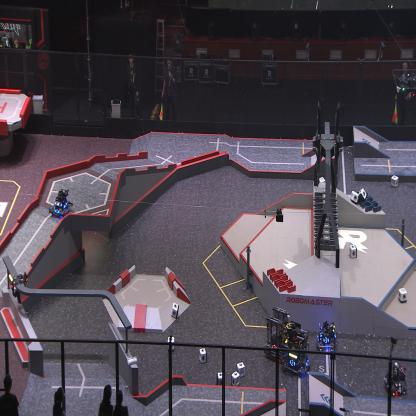car: (281, 319, 311, 375), (264, 308, 290, 360), (384, 360, 408, 396), (47, 186, 74, 217), (316, 319, 338, 353)
